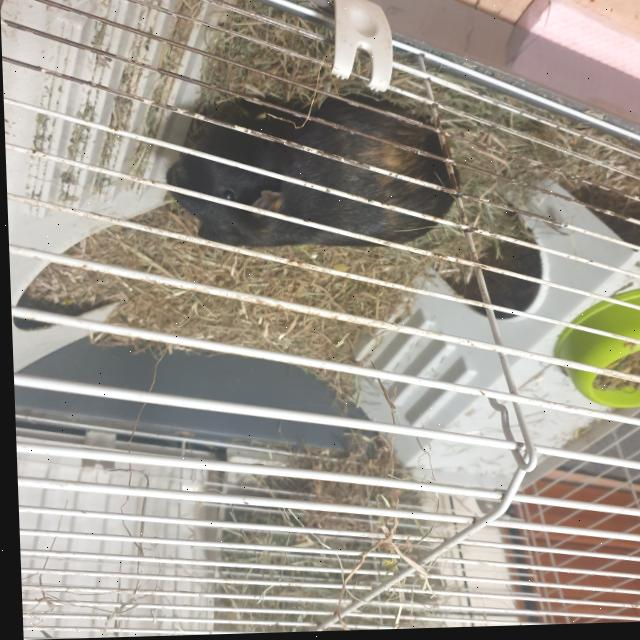guinea pig: (158, 95, 457, 257)
